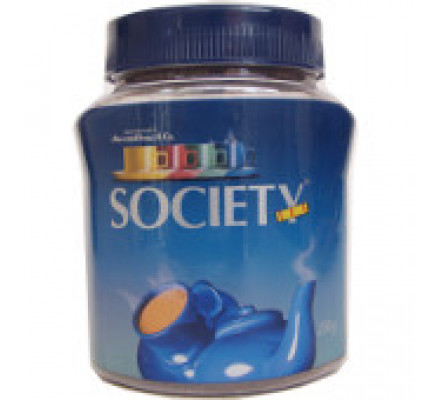society: (77, 112, 354, 379)
